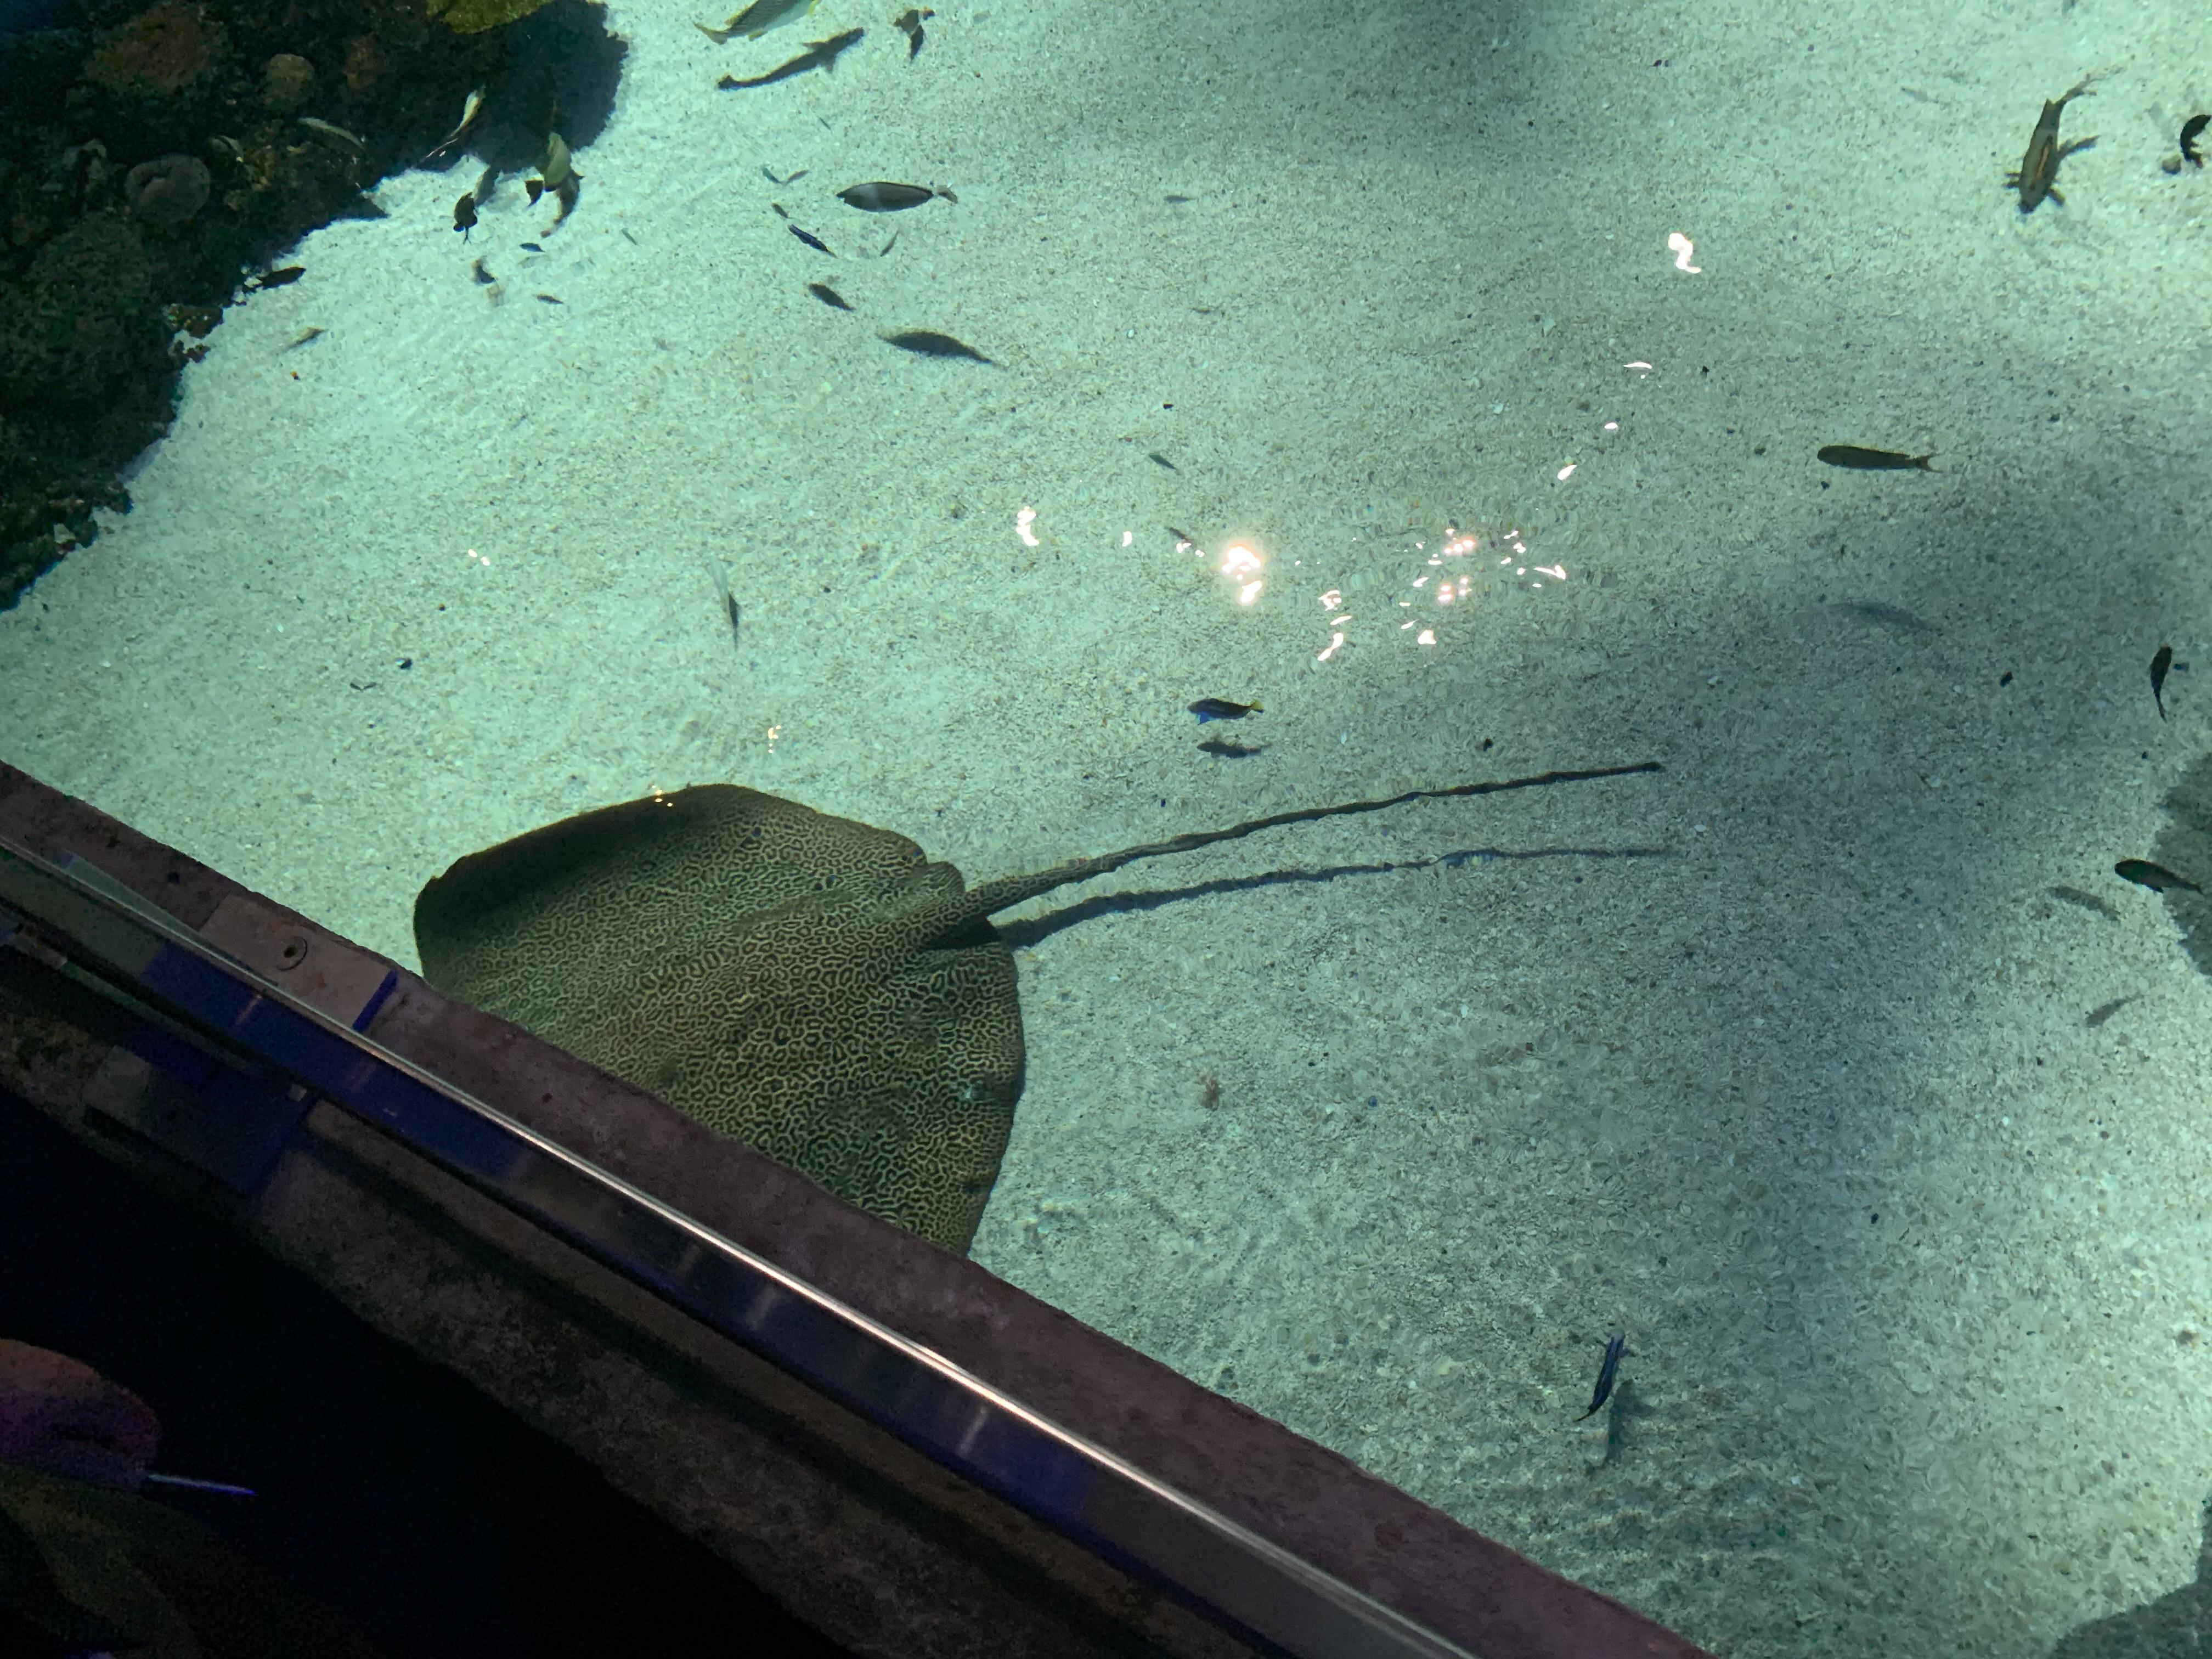fish: (2008, 70, 2099, 213), (719, 23, 871, 91), (1573, 1330, 1639, 1436), (693, 0, 822, 52), (425, 75, 491, 166), (521, 117, 583, 204), (873, 328, 1001, 369), (1817, 439, 1940, 477), (298, 113, 378, 171), (2109, 859, 2207, 901), (836, 179, 961, 211), (702, 577, 747, 641), (1184, 695, 1266, 723), (2177, 110, 2212, 173), (806, 281, 862, 317), (780, 220, 834, 256), (448, 192, 484, 244), (2151, 645, 2175, 716), (237, 270, 310, 293), (1144, 451, 1179, 476)
stingray: (411, 782, 1031, 1269)
